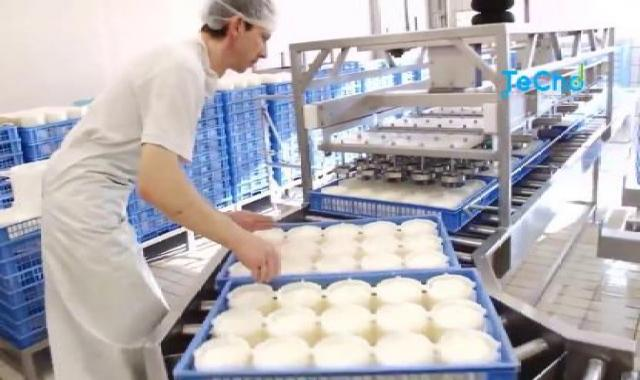hairnet: (197, 0, 285, 41)
